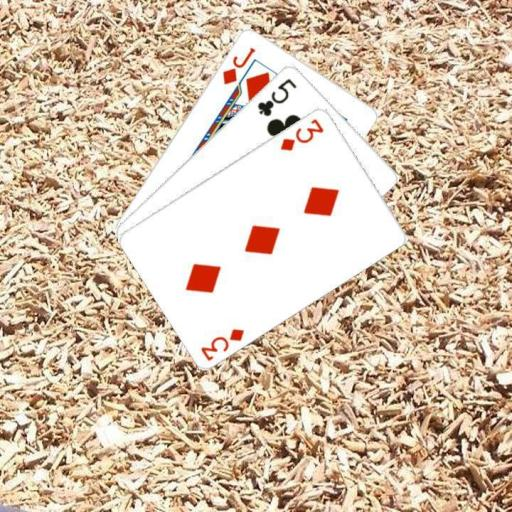card-corner: (254, 74, 298, 118), (197, 324, 246, 362), (276, 115, 326, 152), (219, 43, 257, 86)
